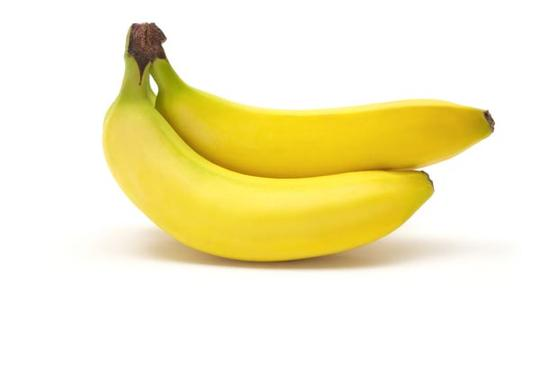banana: (96, 26, 437, 262), (145, 21, 497, 180)
